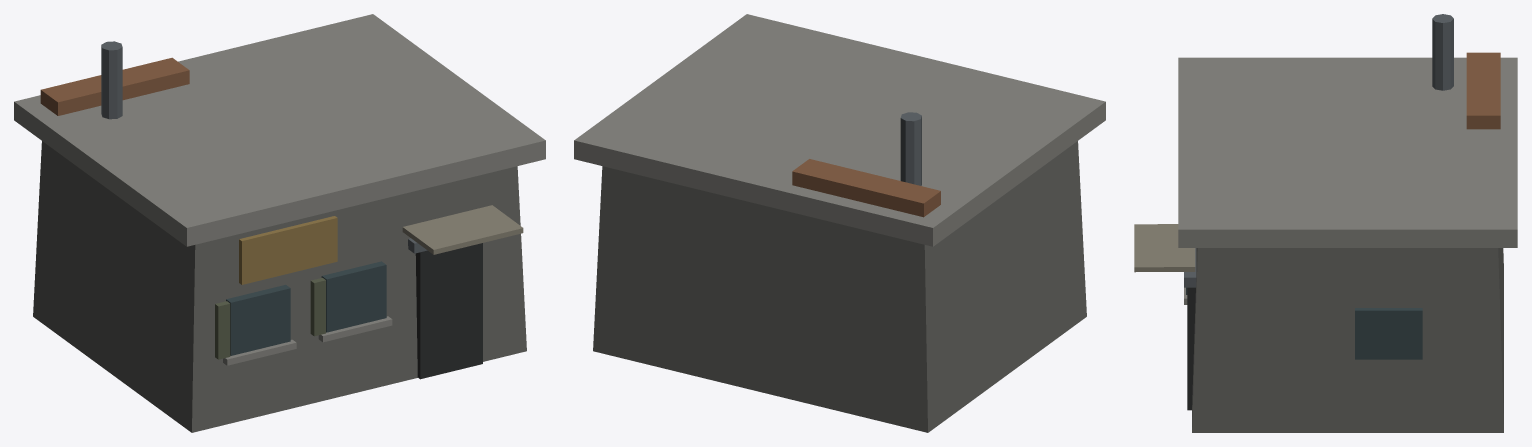
The model's file is town_house.glb.
3 views of the same model, side by side, from view 1: azimuth 30°, elevation 25°; view 2: azimuth 150°, elevation 25°; view 3: azimuth 270°, elevation 25° (orthographic).
Visible parts, largest first — view 1: roof, body, door, paint, coping, win0, win1, awning, stove, shut0, shut1, sill1 (+1 smaller); view 2: body, roof, coping, stove; view 3: roof, body, side_win, coping, awning, stove, door.
Boxes of the visible parts, x1=… form: roof: x1=14, y1=14, x2=545, y2=246; body: x1=33, y1=141, x2=526, y2=432; door: x1=415, y1=243, x2=482, y2=379; paint: x1=239, y1=216, x2=337, y2=284; coping: x1=40, y1=57, x2=189, y2=115; win0: x1=226, y1=284, x2=290, y2=355; win1: x1=321, y1=261, x2=386, y2=332; awning: x1=402, y1=205, x2=523, y2=254; stove: x1=101, y1=41, x2=122, y2=119; shut0: x1=215, y1=301, x2=230, y2=359; shut1: x1=310, y1=277, x2=325, y2=336; sill1: x1=318, y1=316, x2=392, y2=342; body: x1=593, y1=141, x2=1086, y2=432; roof: x1=574, y1=14, x2=1105, y2=246; coping: x1=792, y1=159, x2=940, y2=217; stove: x1=900, y1=112, x2=921, y2=185; roof: x1=1178, y1=57, x2=1517, y2=247; body: x1=1192, y1=248, x2=1503, y2=432; side_win: x1=1355, y1=308, x2=1422, y2=359; coping: x1=1466, y1=52, x2=1500, y2=129; awning: x1=1134, y1=224, x2=1195, y2=272; stove: x1=1432, y1=14, x2=1453, y2=90; door: x1=1187, y1=287, x2=1195, y2=410.
Bounding box in the file's own units: 6 × 4.5 × 5.65.
